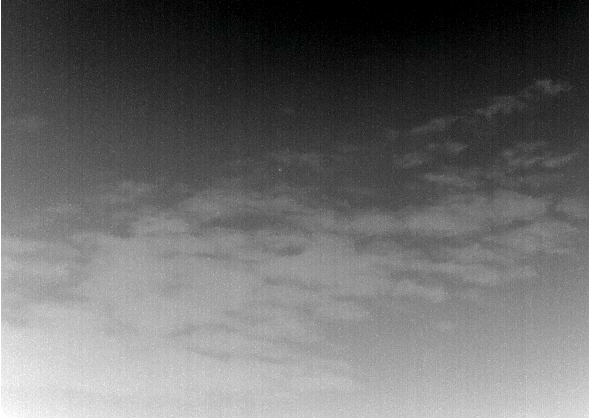dim target: (277, 167, 282, 172)
